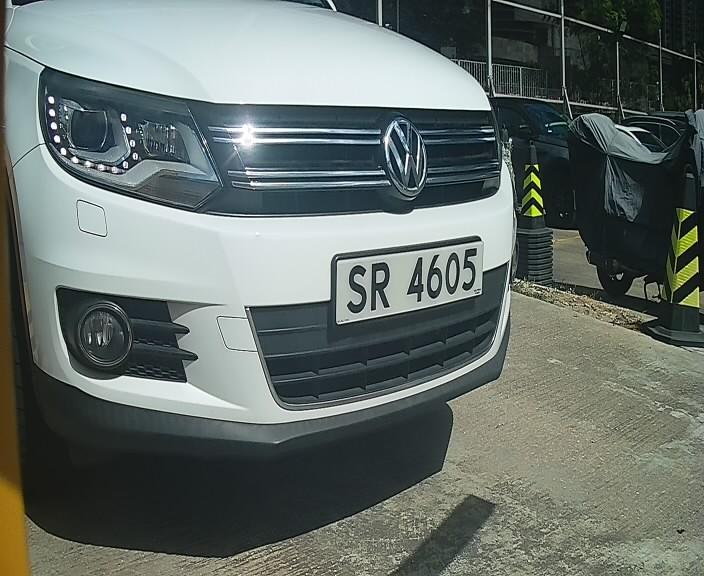License Plate: (318, 229, 491, 332)
